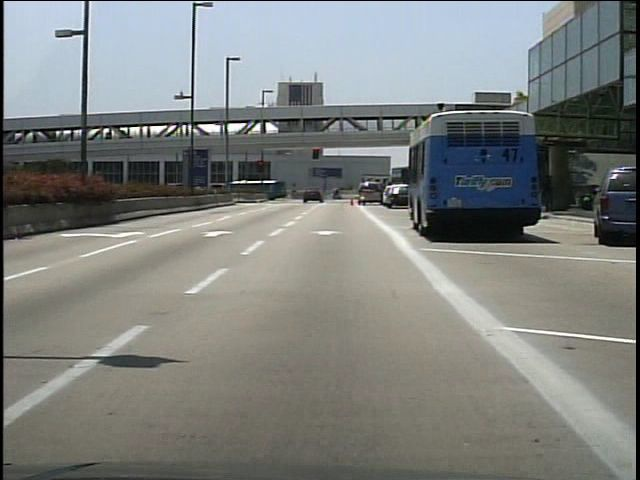person: (543, 175, 558, 211), (332, 188, 345, 202), (331, 187, 341, 202)
